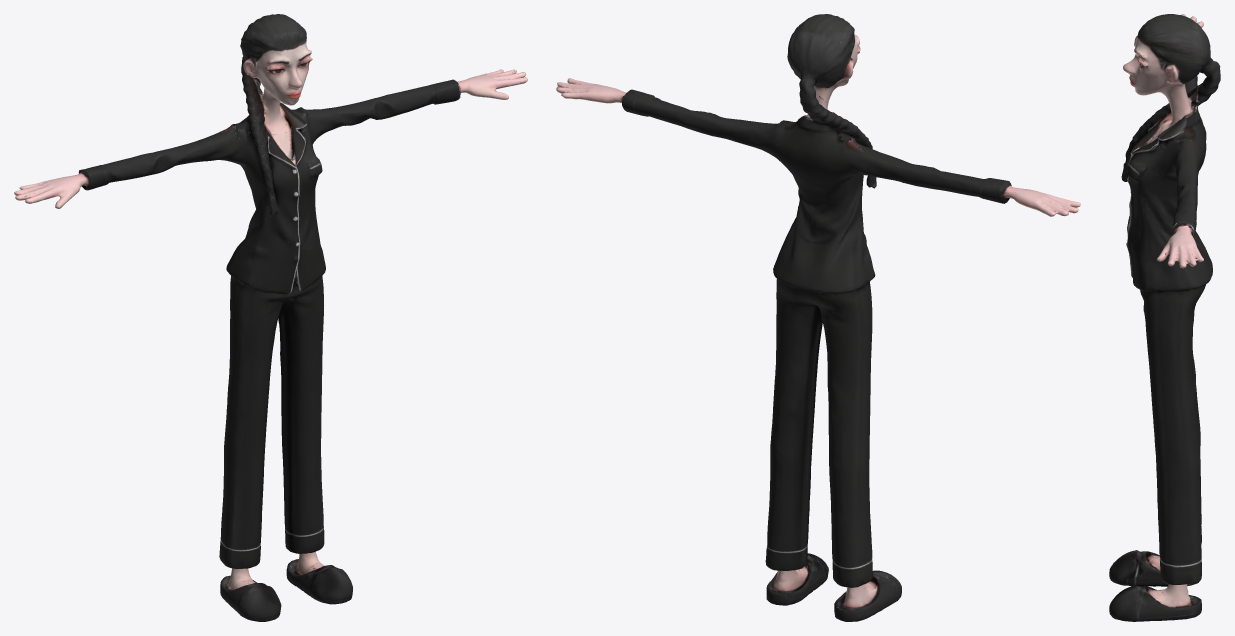
Rendered from Meshy_AI_Midnight_Elegance_0107171827_texture.fbx.
3 renders of one model, left to right at view 1: azimuth 30°, elevation 25°; view 2: azimuth 150°, elevation 25°; view 3: azimuth 270°, elevation 25°, orthographic. The views are drawn at different scales.
Visible parts, largest first — view 1: Mesh_0; view 2: Mesh_0; view 3: Mesh_0.
Part boxes in pixels (x1,y1,x2,y2): Mesh_0: (14,14,527,621); Mesh_0: (556,14,1080,621); Mesh_0: (1109,14,1220,621).
Bounding box in the file's own units: 179 × 192 × 33.46.
1 material, 1 textured.
